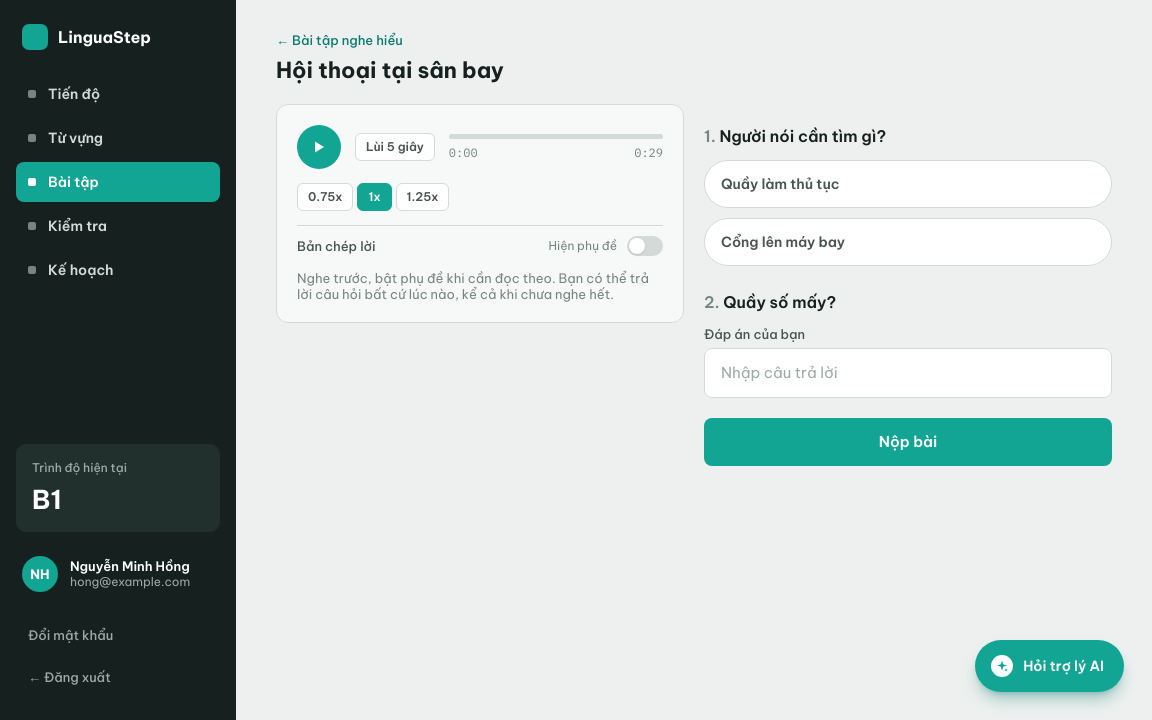
Test: listening exercise › hands in with an empty question counted wrong once the learner confirms
The image size is (1152, 720).
Expected: the heading "Hội thoại tại sân bay" is shown, [276,56,504,84]
Click the radio button labelled "Quầy làm thủ tục" at (780, 184), box [704,160,1112,208]
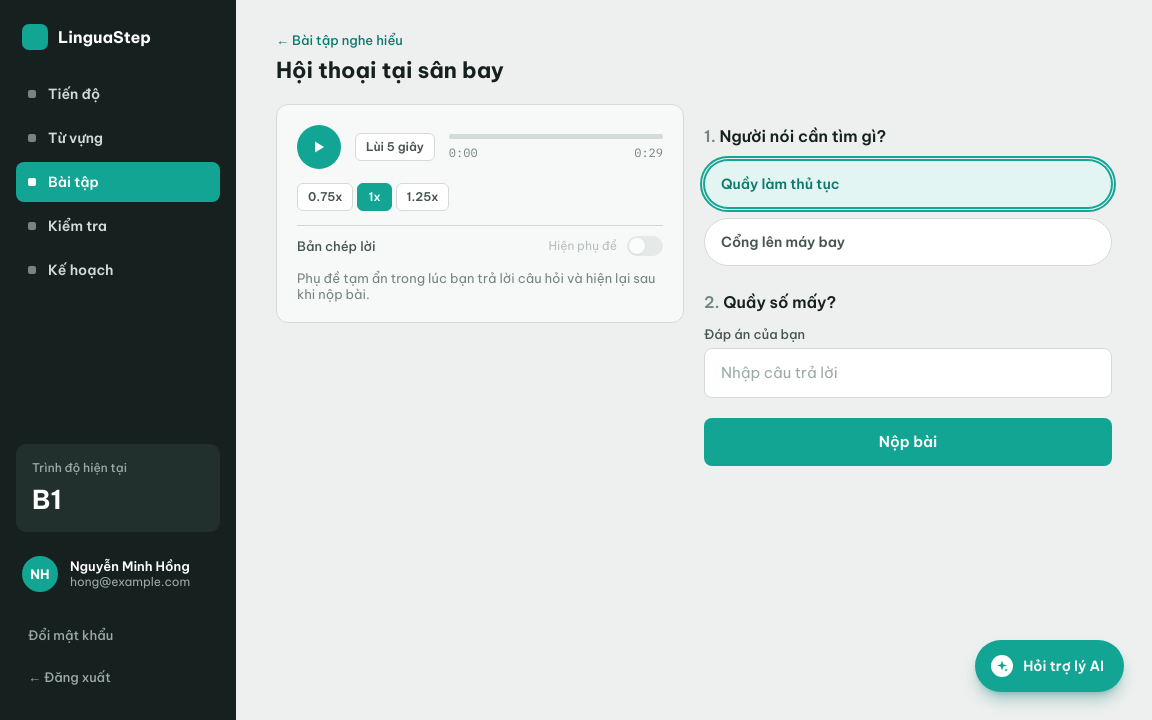
Click the button "Nộp bài" at (908, 442), box [704,418,1112,466]
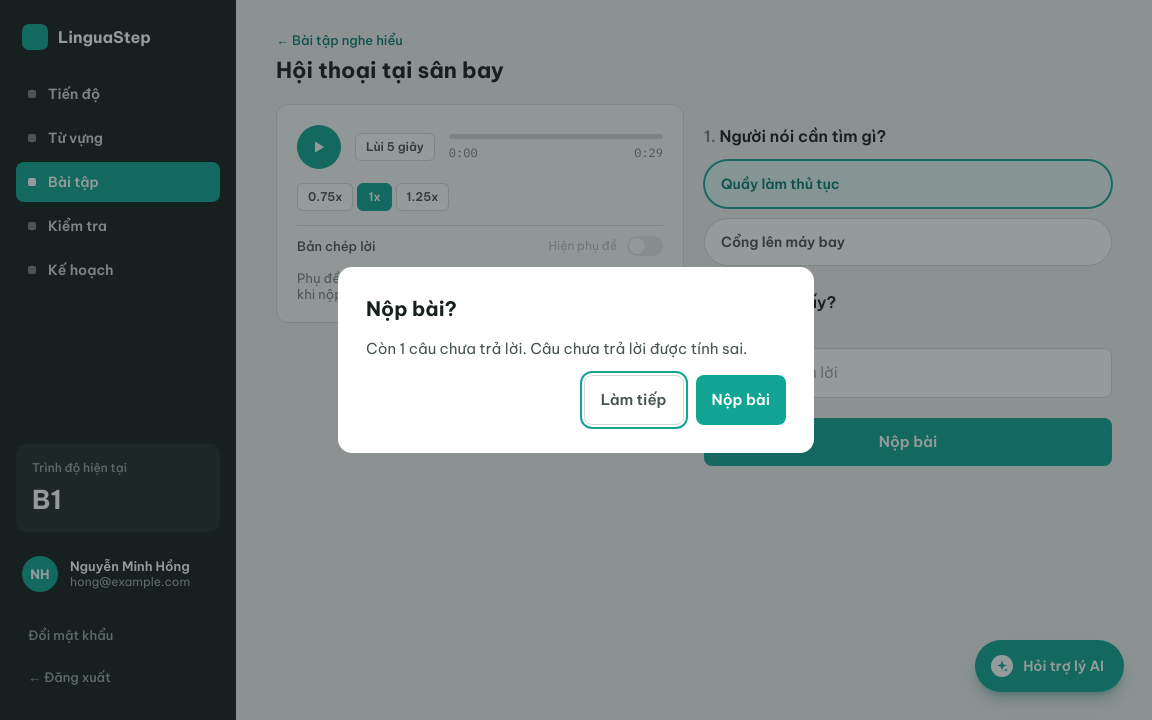
Click the button "Nộp bài" at (741, 400), box [696,375,786,425]
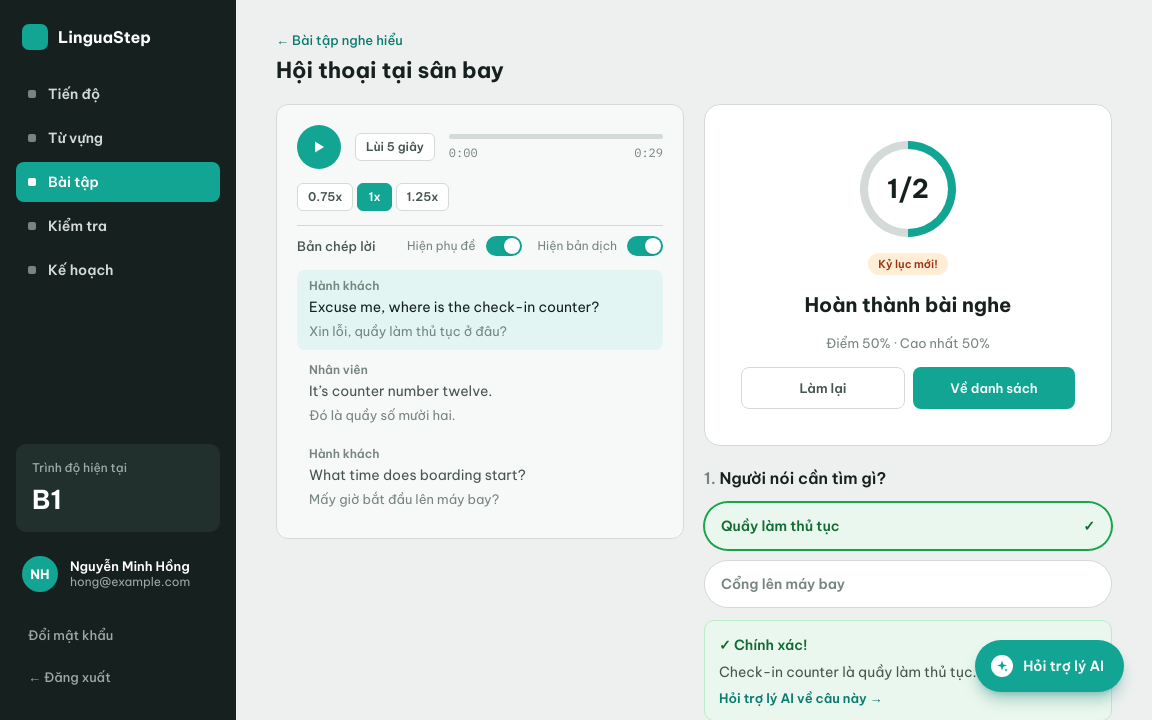
Expected: the heading "Hoàn thành bài nghe" is shown, [805,291,1011,319]
